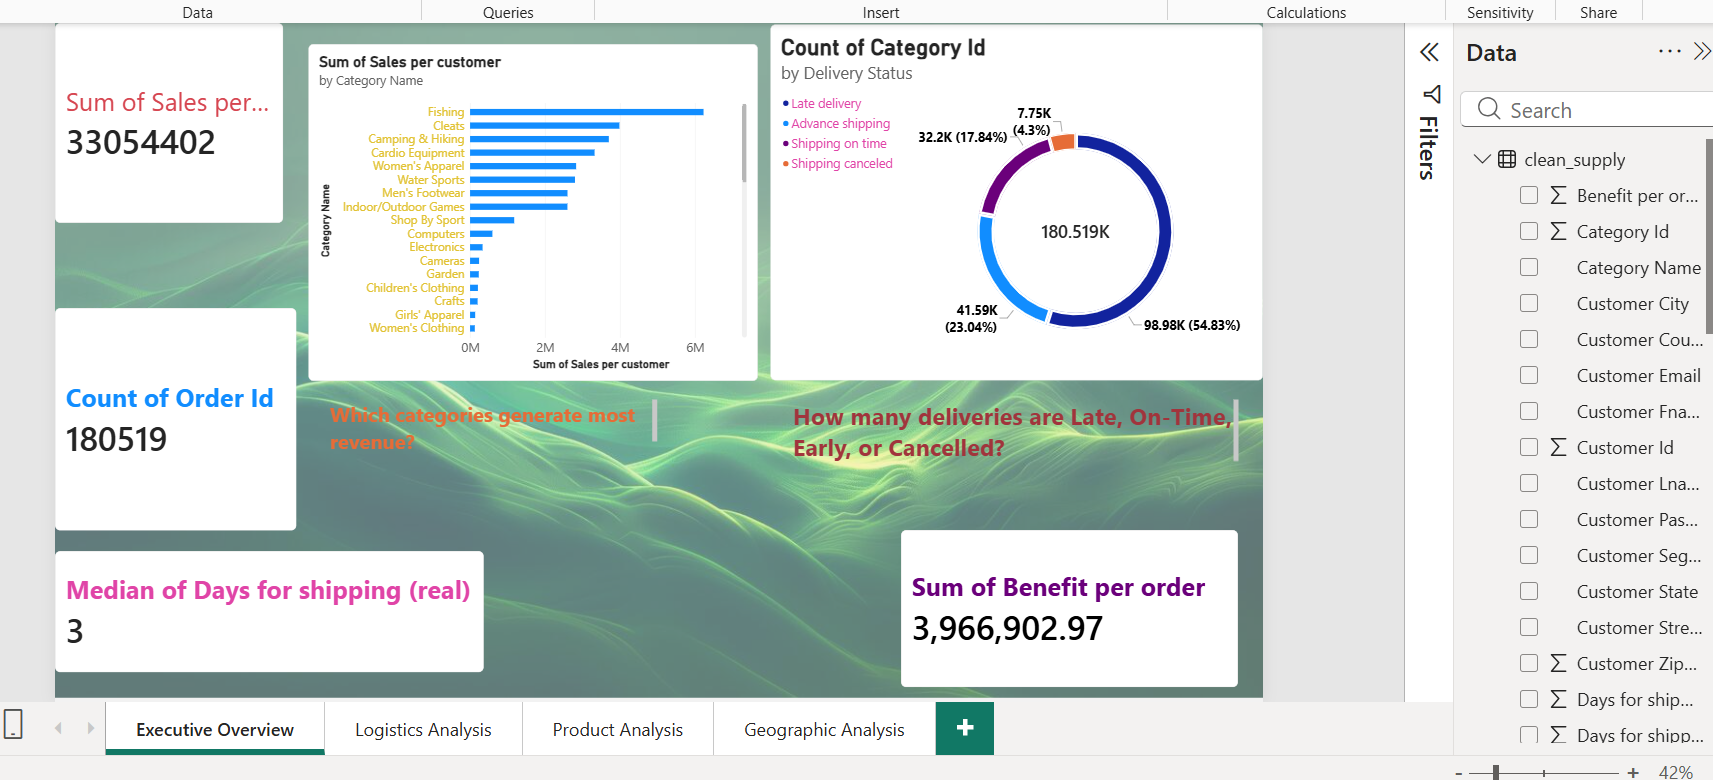

The page's visual inventory and layout, read from the dashboard file:
{"tool":"powerbi","page":{"name":"Executive Overview","canvas":[1920,1080],"ordinal":0},"visuals":[{"type":"cardVisual","fields":{"Data":["Sum(clean_supply.Sales per customer)"]},"box":[0,0,363.4,318.7],"z":0},{"type":"cardVisual","fields":{"Data":["CountNonNull(clean_supply.Order Id)"]},"box":[0,452.7,384.2,354.4],"z":1},{"type":"cardVisual","fields":{"Data":["Sum(clean_supply.Benefit per order)"]},"box":[1346.2,807.1,536.1,250.2],"z":2},{"type":"cardVisual","fields":{"Data":["Median(clean_supply.Days for shipping (real))"]},"box":[0,839.9,682,193.6],"z":3},{"type":"clusteredBarChart","fields":{"Category":["clean_supply.Category Name"],"Y":["Sum(clean_supply.Sales per customer)"]},"box":[402.1,32.8,714.8,536.1],"z":4},{"type":"donutChart","fields":{"Category":["clean_supply.Delivery Status"],"Y":["CountNonNull(clean_supply.Category Id)"]},"box":[1137.7,3,783.3,565.9],"z":5},{"type":"textbox","box":[969,33,169,536],"z":6},{"type":"textbox","box":[437.8,598.6,521.2,83.4],"z":7},{"type":"textbox","box":[1173.5,598.6,708.8,107.2],"z":8}]}

Visuals, with their boxes on the page's 1920x1080 design canvas (x1, y1, x2, y2). These are canvas units, not pixel positions in the 1713x780 screenshot, which may show the page scaled, cropped or inside an application window:
cardVisual - Sum(clean_supply.Sales per customer): <bbox>0, 0, 363, 319</bbox>
cardVisual - CountNonNull(clean_supply.Order Id): <bbox>0, 453, 384, 807</bbox>
cardVisual - Sum(clean_supply.Benefit per order): <bbox>1346, 807, 1882, 1057</bbox>
cardVisual - Median(clean_supply.Days for shipping (real)): <bbox>0, 840, 682, 1034</bbox>
clusteredBarChart - clean_supply.Category Name x Sum(clean_supply.Sales per customer): <bbox>402, 33, 1117, 569</bbox>
donutChart - clean_supply.Delivery Status x CountNonNull(clean_supply.Category Id): <bbox>1138, 3, 1921, 569</bbox>
textbox: <bbox>969, 33, 1138, 569</bbox>
textbox: <bbox>438, 599, 959, 682</bbox>
textbox: <bbox>1174, 599, 1882, 706</bbox>
